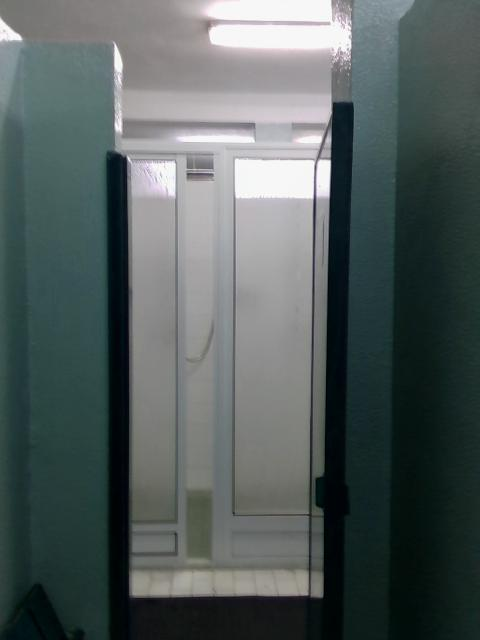open_door: (105, 155, 346, 639)
